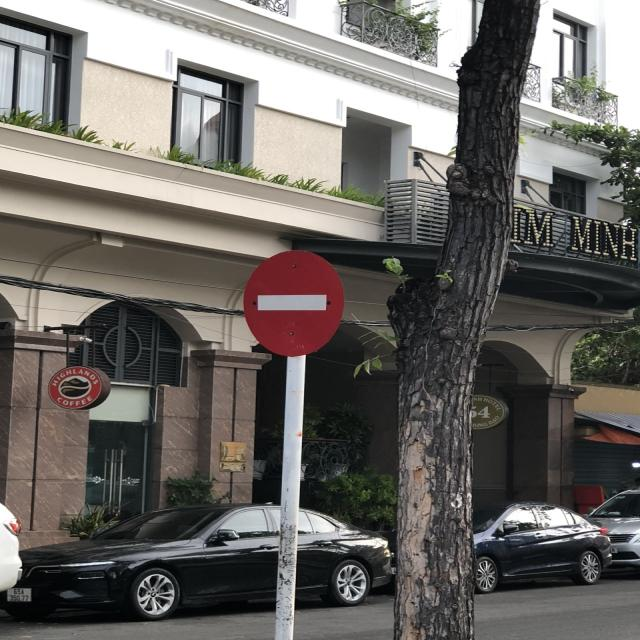Bien bao cam di nguoc chieu: (232, 249, 355, 361)
